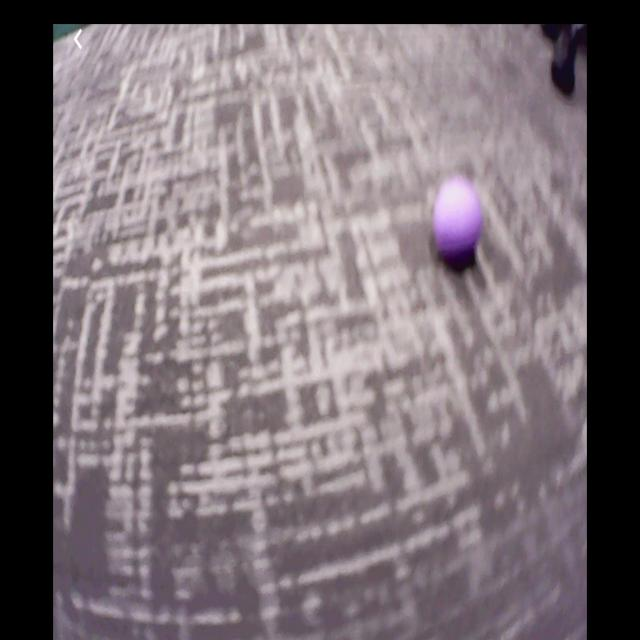ball: (434, 183, 482, 254)
